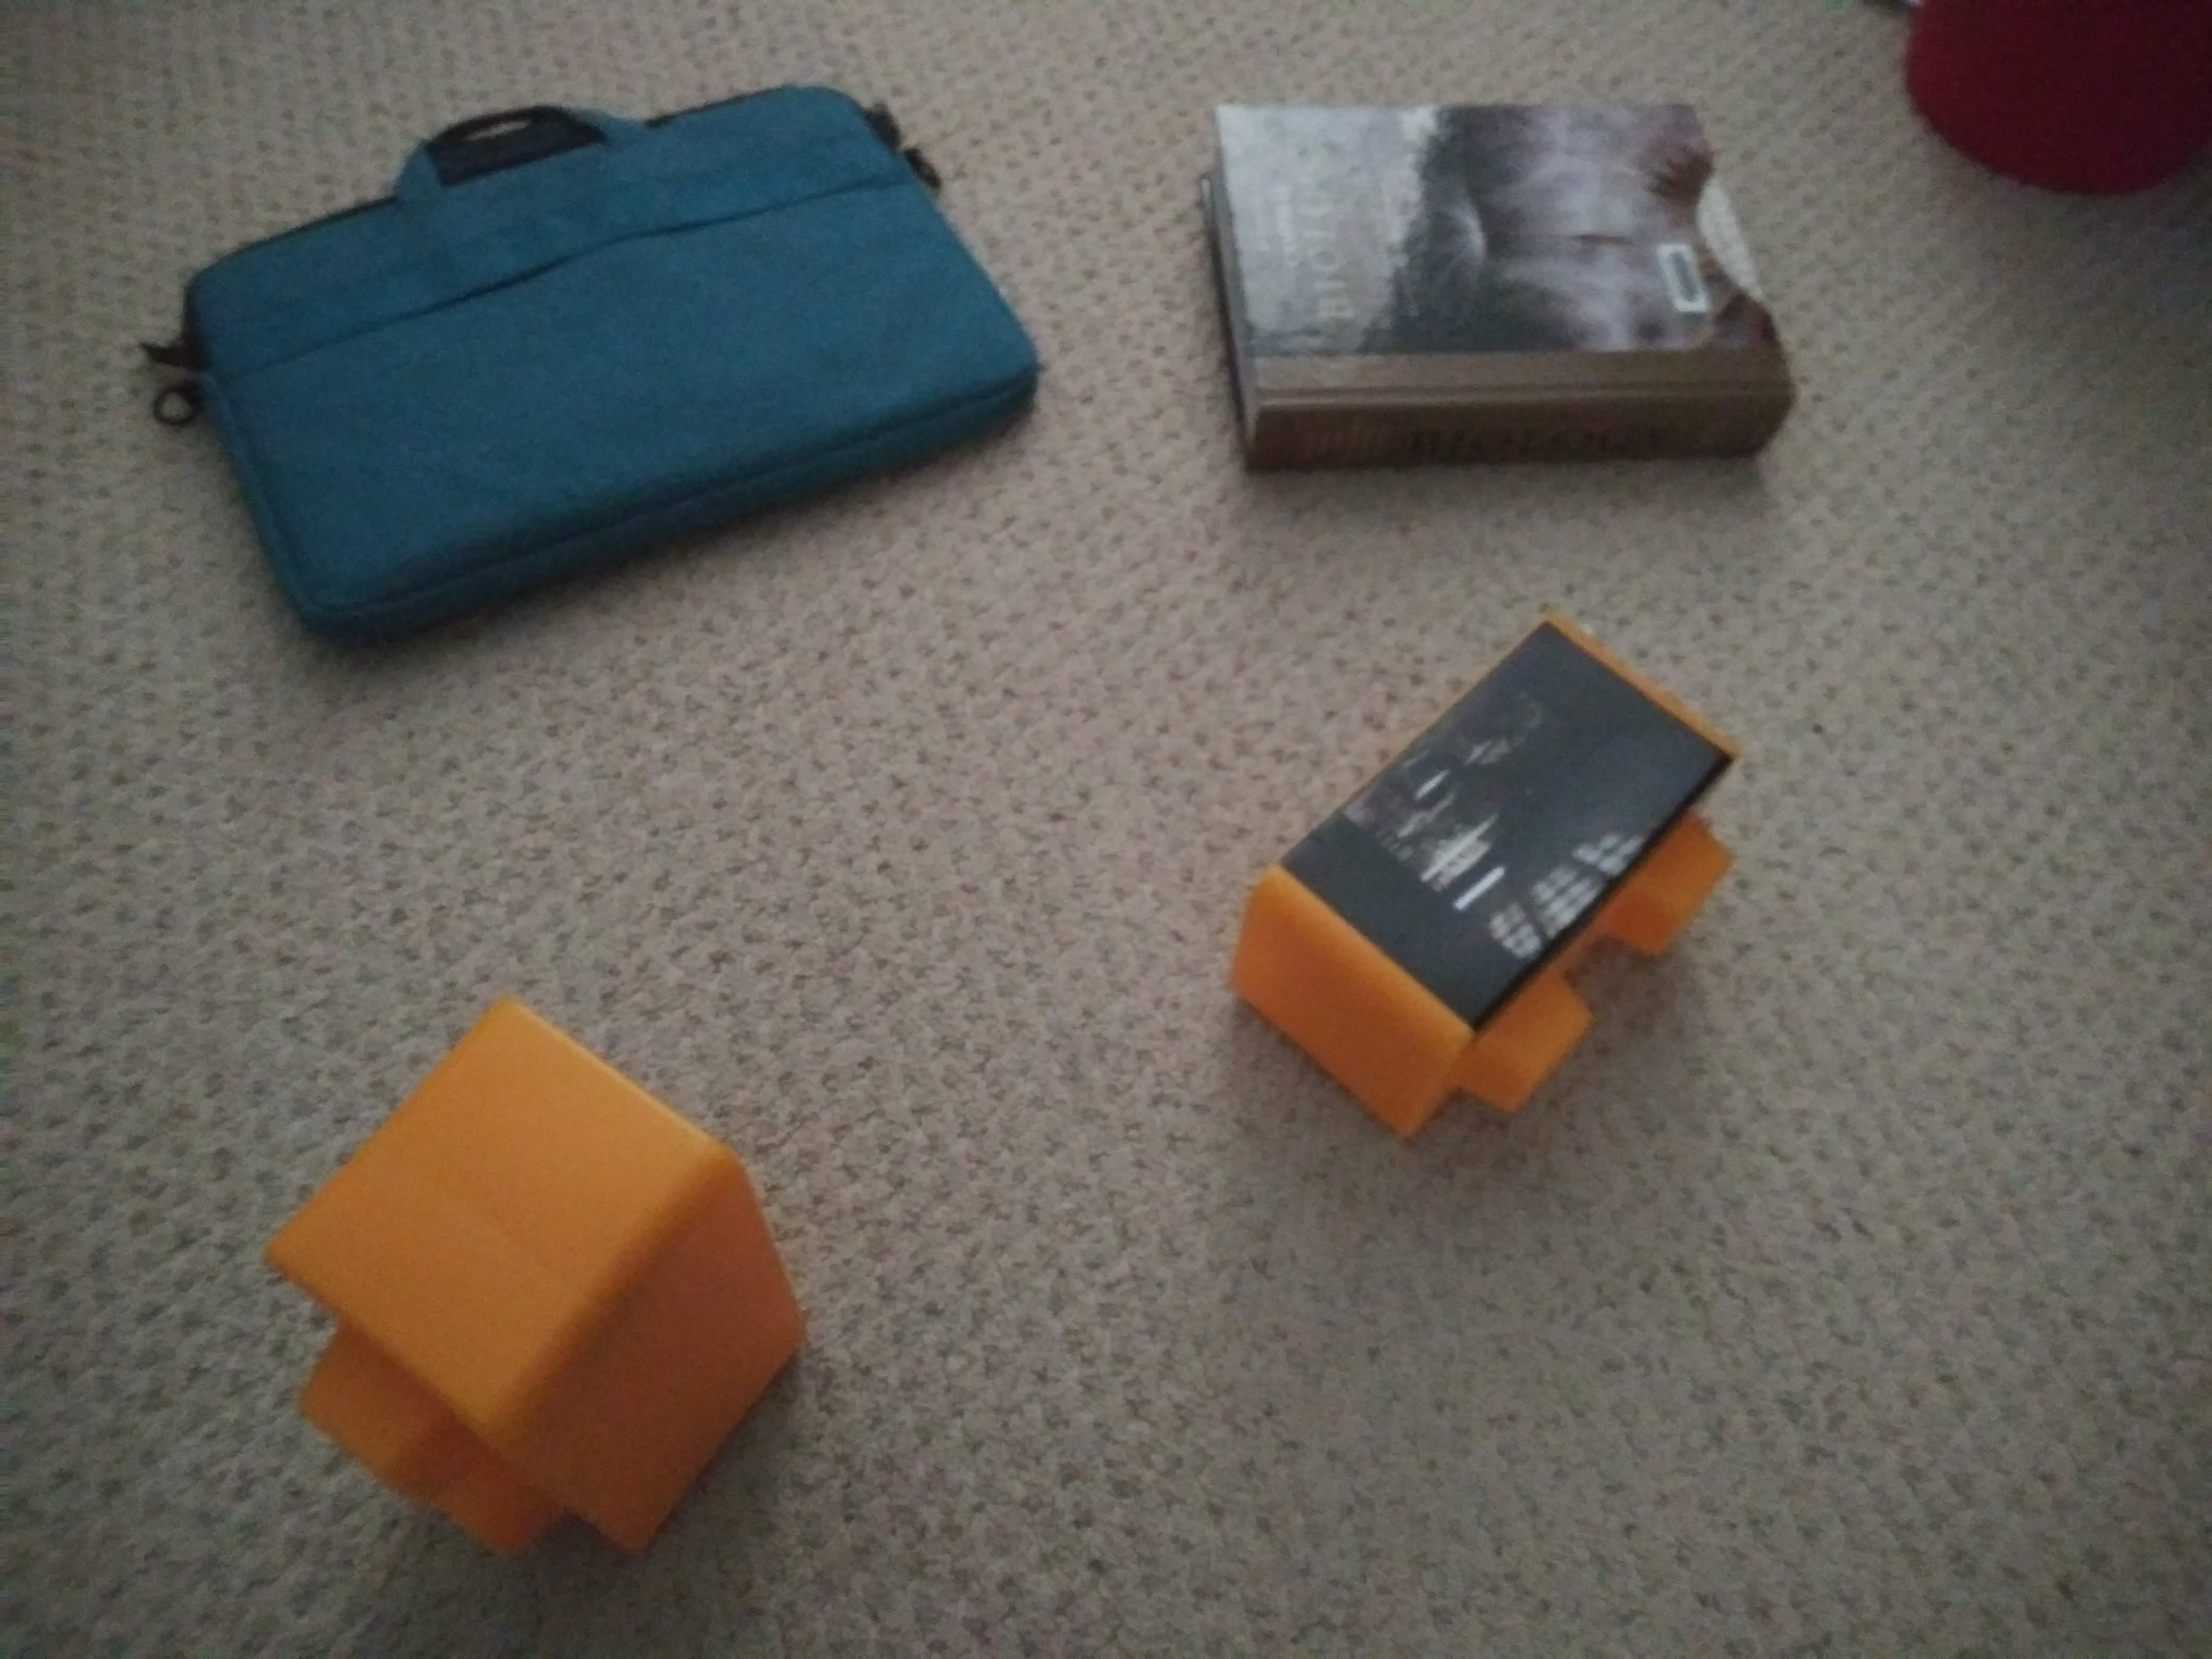skystone: (1270, 676, 1714, 1049)
stone: (280, 1028, 801, 1523)
